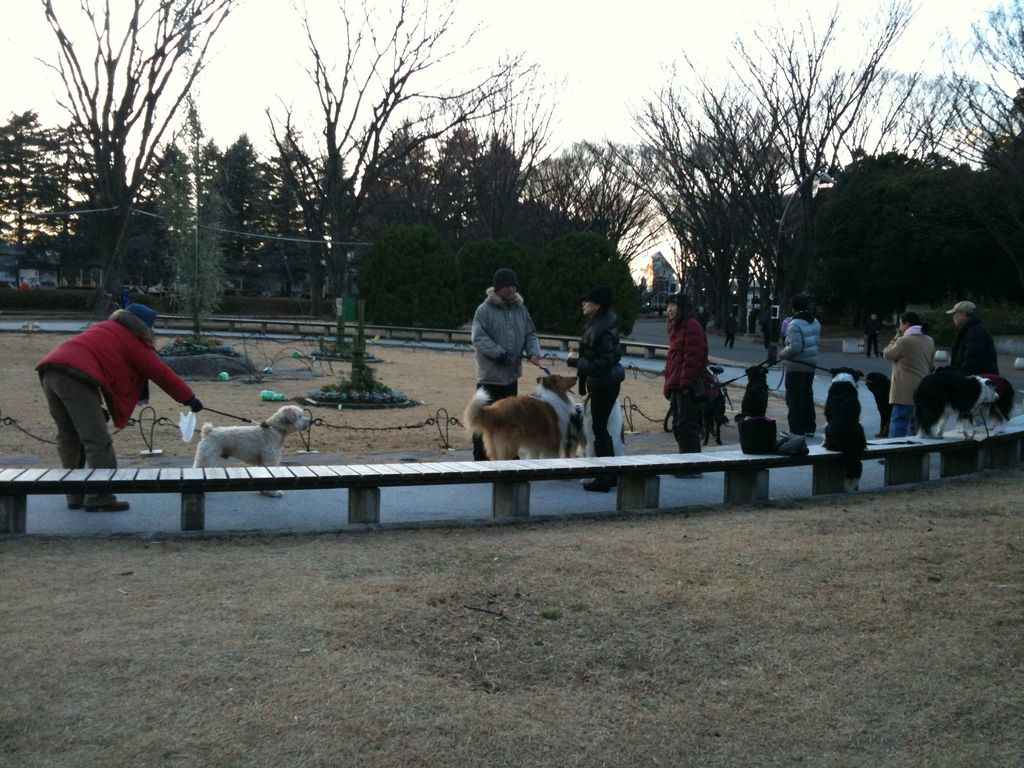Dog: (195, 407, 308, 499), (461, 373, 576, 460), (913, 372, 999, 444), (824, 365, 866, 488), (572, 396, 630, 455), (735, 367, 768, 424), (700, 381, 728, 447), (867, 371, 891, 438)
